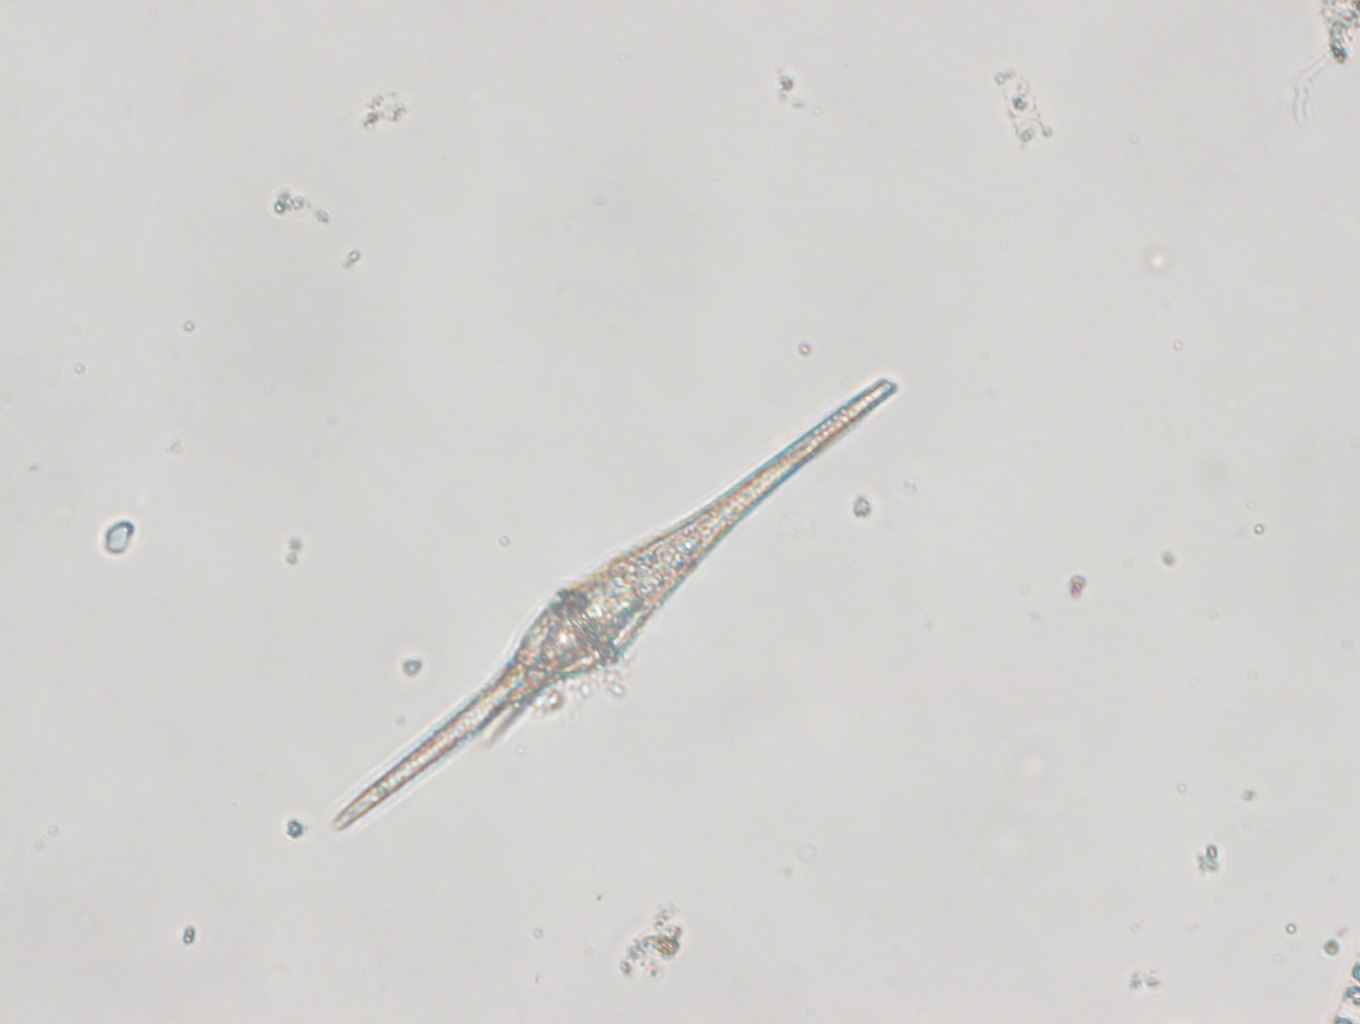ceratium fusus: (329, 374, 905, 831)
